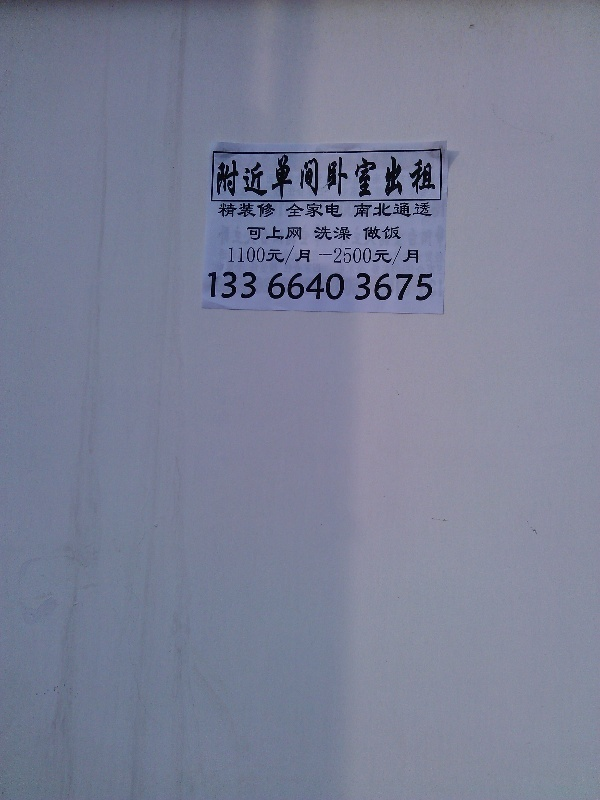text: (225, 154, 240, 200), (241, 154, 256, 200), (257, 154, 272, 200), (273, 154, 288, 200), (289, 154, 304, 200), (305, 154, 320, 200), (321, 154, 336, 200), (337, 154, 352, 200), (353, 154, 368, 200), (369, 154, 384, 200), (385, 154, 400, 200), (401, 154, 416, 200), (417, 154, 432, 200), (209, 269, 224, 301), (225, 269, 240, 301), (241, 269, 256, 301), (369, 272, 384, 302), (385, 272, 400, 302), (401, 272, 416, 302), (417, 272, 432, 302), (273, 272, 288, 301), (289, 272, 304, 301), (305, 272, 320, 301), (321, 272, 336, 301), (354, 272, 368, 302), (216, 154, 224, 200), (241, 246, 256, 267), (257, 246, 272, 267), (273, 246, 288, 267), (289, 246, 304, 267), (305, 246, 320, 267), (321, 246, 336, 267), (337, 246, 352, 267), (353, 246, 368, 267), (369, 246, 384, 267), (385, 246, 400, 267), (401, 246, 416, 267), (225, 202, 240, 220), (241, 202, 256, 220), (257, 202, 272, 220), (337, 272, 346, 301), (257, 225, 272, 242), (273, 225, 288, 242), (289, 202, 304, 219), (305, 202, 320, 219), (321, 202, 336, 219), (353, 202, 368, 219), (369, 202, 384, 219), (385, 202, 400, 219), (401, 202, 416, 219), (417, 202, 432, 219), (228, 246, 240, 267), (289, 225, 303, 242), (321, 226, 336, 241), (337, 226, 352, 241), (369, 226, 384, 241), (385, 226, 400, 241), (433, 154, 437, 200), (247, 225, 256, 242), (267, 272, 272, 301), (218, 202, 224, 220), (417, 246, 422, 267), (313, 226, 320, 241), (337, 202, 343, 219), (257, 269, 260, 301), (363, 226, 368, 241), (273, 202, 277, 220), (433, 272, 435, 302), (285, 202, 288, 219), (433, 202, 434, 219), (401, 226, 402, 241)
